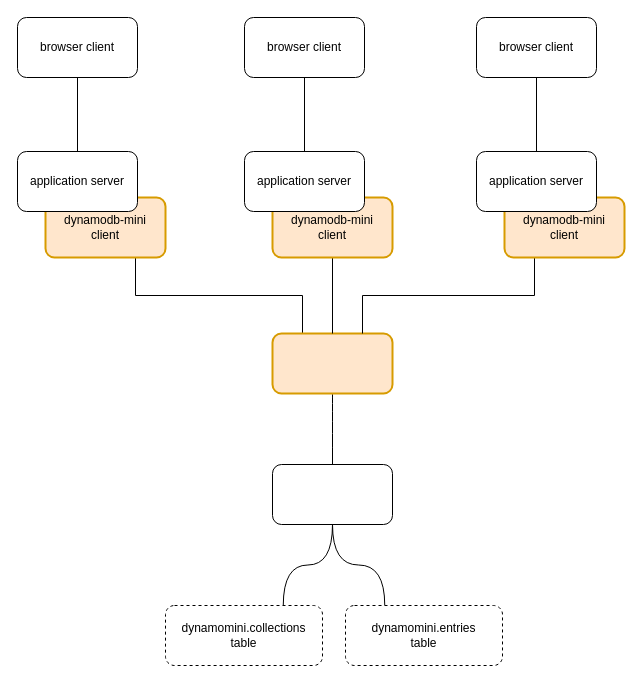
This 643x683 diagram has some shape labels left out. The shapes that lost their labels are listed below. From the top down, each one's box as (x1, y1, x2, y2) in pixels, then its label:
(271, 332, 393, 394): dynamodb-mini server
(272, 464, 392, 524): AWS DynamoDB
